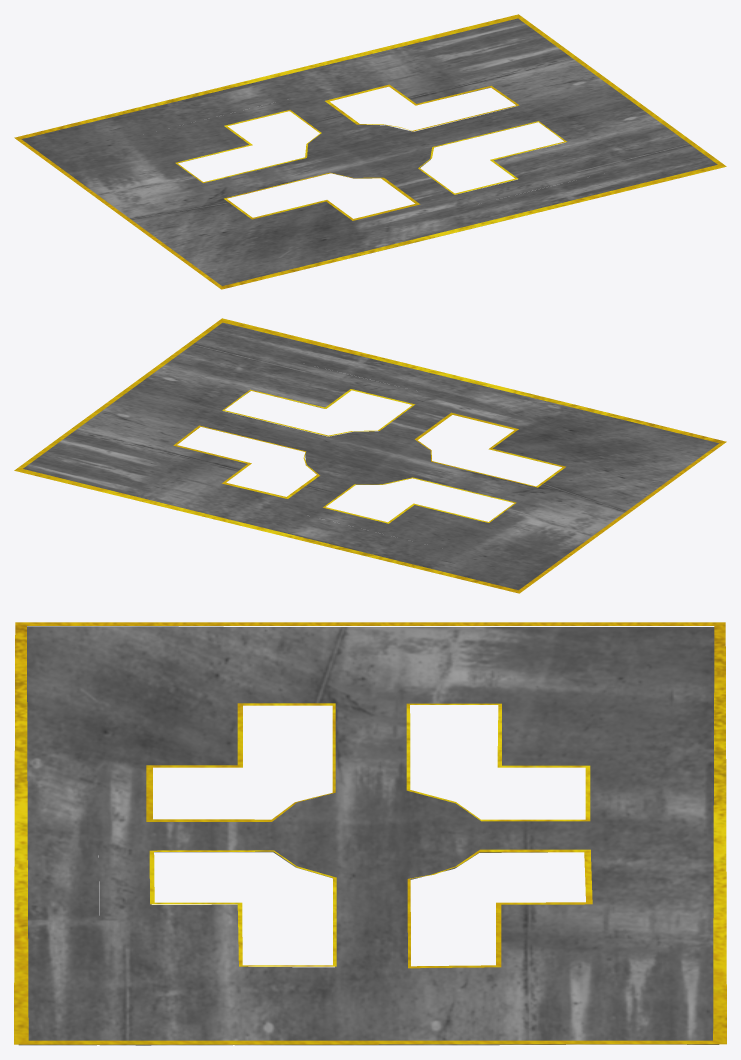
File: Main_Arena.fbx
3 views of the same model, one above another, from view 1: azimuth 30°, elevation 25°; view 2: azimuth 150°, elevation 25°; view 3: azimuth 270°, elevation 25° (orthographic). The views are drawn at different scales.
Parts seen in each view (by area): view 1: Arena_Shape, Arena_Edges; view 2: Arena_Shape, Arena_Edges; view 3: Arena_Shape, Arena_Edges.
Boxes of the visible parts, <box> form: Arena_Shape: <box>21,18,717,285</box>; Arena_Edges: <box>14,14,726,289</box>; Arena_Shape: <box>23,322,718,590</box>; Arena_Edges: <box>14,318,726,593</box>; Arena_Shape: <box>19,626,719,1045</box>; Arena_Edges: <box>14,622,726,1044</box>.
Size of the model in its own units: 9.91 by 0.0191 by 7.07.
